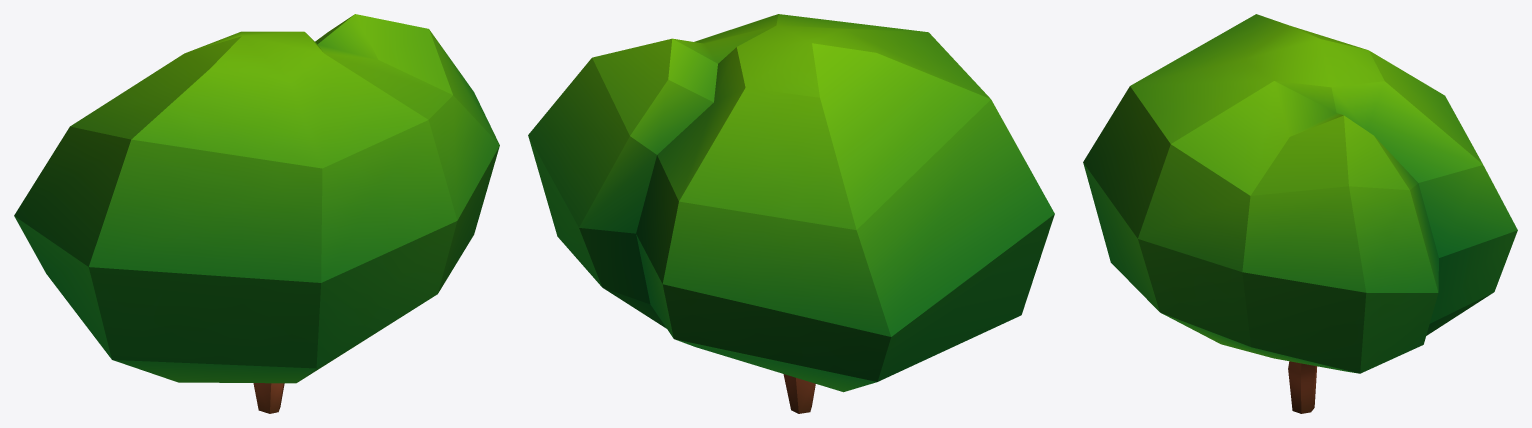
File: bush1_01.FBX
3 renders of one model, left to right at view 1: azimuth 30°, elevation 25°; view 2: azimuth 150°, elevation 25°; view 3: azimuth 270°, elevation 25°, orthographic. The views are drawn at different scales.
Parts seen in each view (by area): view 1: bush1_LOD00; view 2: bush1_LOD00; view 3: bush1_LOD00.
Boxes of the visible parts, left/top/right/bottom form: bush1_LOD00: left=14, top=14, right=499, bottom=413; bush1_LOD00: left=528, top=14, right=1054, bottom=413; bush1_LOD00: left=1083, top=14, right=1517, bottom=413.
Size of what is drawn, in the model's own units: 8.54 by 6.7 by 7.31.
